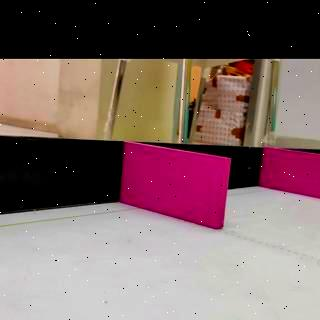xparking: (128, 157, 222, 227), (263, 151, 320, 194)
